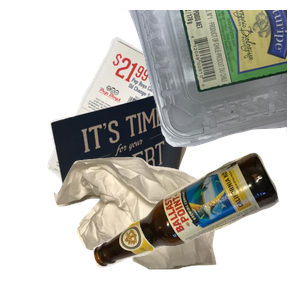glass: (91, 150, 300, 300)
paper: (45, 34, 230, 214)
plastic: (60, 10, 300, 149)
trash: (51, 155, 261, 300)
